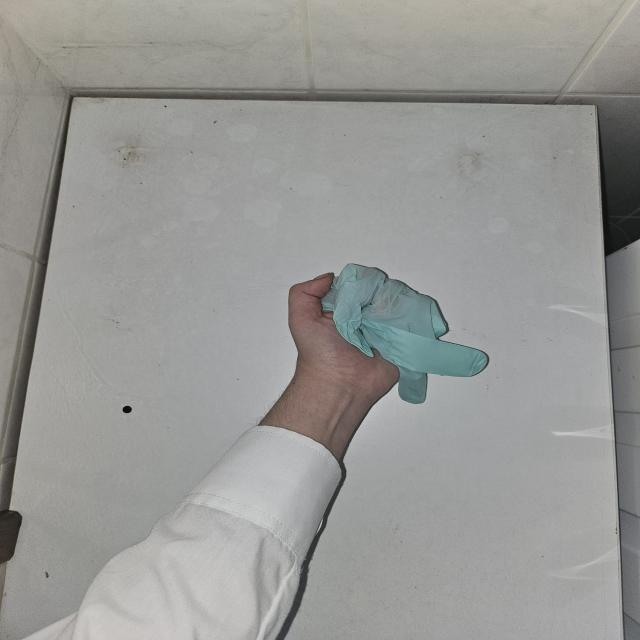glove_partial: (289, 262, 490, 404)
